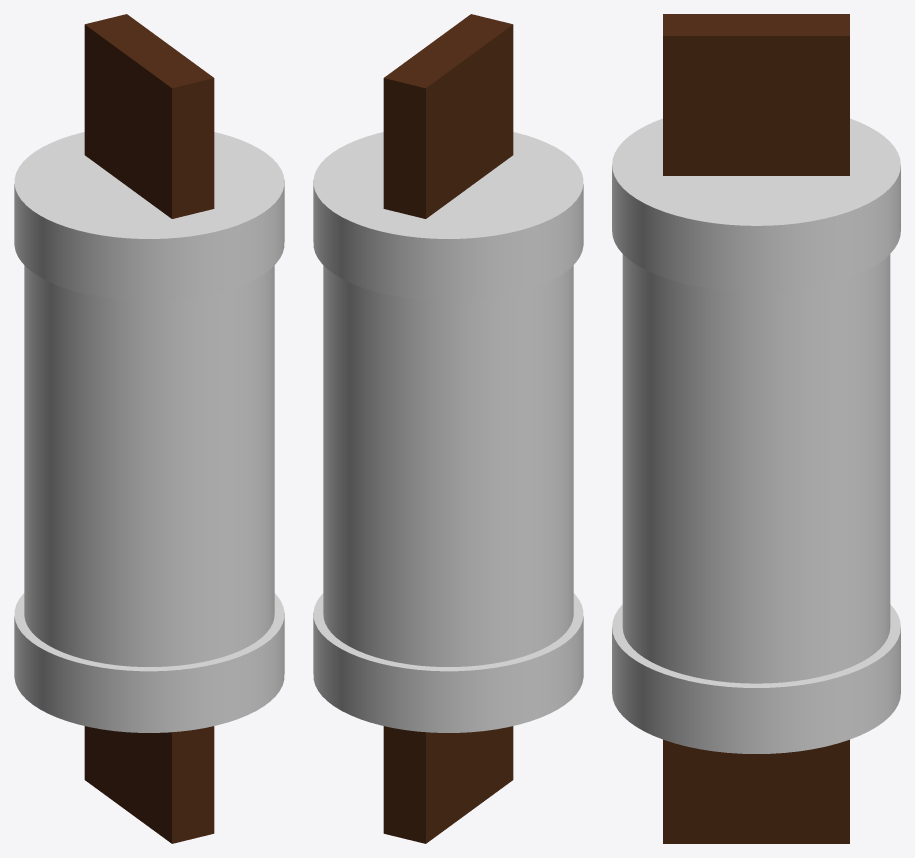
File: fuse.fbx
3 views of the same model, side by side, from view 1: azimuth 30°, elevation 25°; view 2: azimuth 150°, elevation 25°; view 3: azimuth 270°, elevation 25° (orthographic). The views are drawn at different scales.
Visible parts, largest first — view 1: fuse.001; view 2: fuse.001; view 3: fuse.001.
Boxes of the visible parts, x1=… form: fuse.001: x1=14, y1=14, x2=284, y2=843; fuse.001: x1=313, y1=14, x2=583, y2=843; fuse.001: x1=612, y1=14, x2=900, y2=843.
Bounding box in the file's own units: 8.89 × 27.43 × 8.89.
